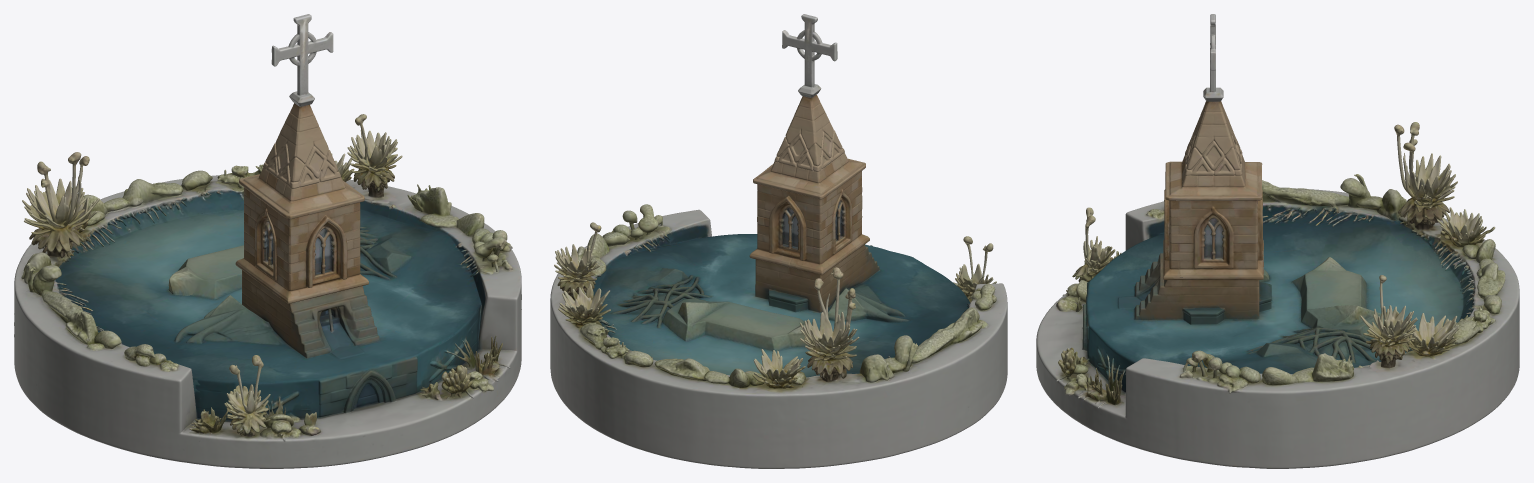
File: 63-el-pueblo-que-se-hundió-optimized.glb
3 views of the same model, side by side, from view 1: azimuth 30°, elevation 25°; view 2: azimuth 150°, elevation 25°; view 3: azimuth 270°, elevation 25° (orthographic). The views are drawn at different scales.
Visible parts, largest first — view 1: tripo_node_a8b81d06-2a54-491c-aeef-1d6d9980abfe; view 2: tripo_node_a8b81d06-2a54-491c-aeef-1d6d9980abfe; view 3: tripo_node_a8b81d06-2a54-491c-aeef-1d6d9980abfe.
Part boxes in pixels (bbox=[...]): tripo_node_a8b81d06-2a54-491c-aeef-1d6d9980abfe: bbox=[14, 14, 521, 468]; tripo_node_a8b81d06-2a54-491c-aeef-1d6d9980abfe: bbox=[550, 14, 1007, 468]; tripo_node_a8b81d06-2a54-491c-aeef-1d6d9980abfe: bbox=[1036, 14, 1519, 468].
Bounding box in the file's own units: 1 × 0.8013 × 0.9976.
1 material, 1 textured.
